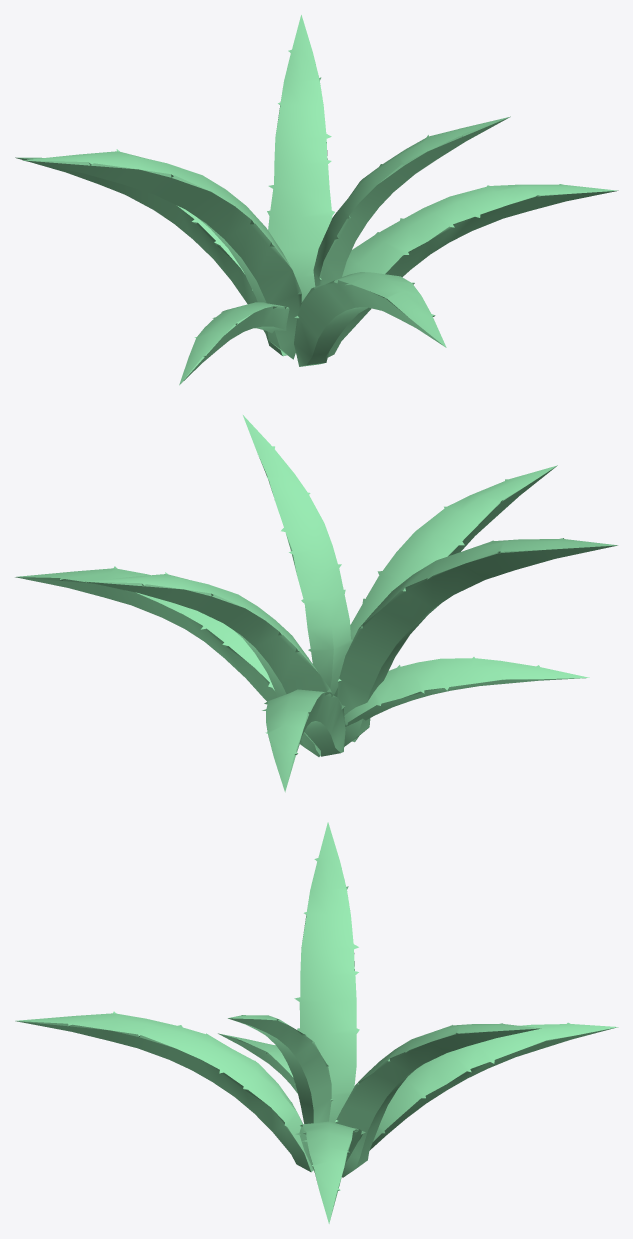
Rendered from plant1.glb.
The picture shows the model from 3 angles, top to bottom: view 1: azimuth 30°, elevation 25°; view 2: azimuth 150°, elevation 25°; view 3: azimuth 270°, elevation 25°; orthographic projection. The views are drawn at different scales.
Visible parts, largest first — view 1: Aloe._01; view 2: Aloe._01; view 3: Aloe._01.
Part boxes in pixels (x1,y1,x2,y2): Aloe._01: [15, 15, 618, 385]; Aloe._01: [15, 415, 617, 792]; Aloe._01: [15, 822, 618, 1223].
Bounding box in the file's own units: 9.48 × 4.08 × 9.65.
Materials: 1 (1 with a texture image).
